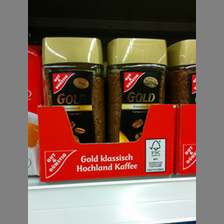coffee: (42, 36, 106, 143), (105, 37, 167, 142)
